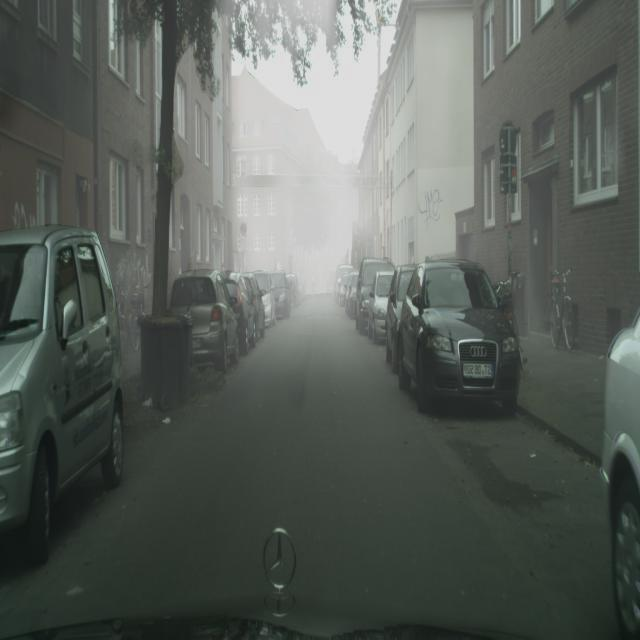car: (548, 268, 575, 351)
truck: (0, 224, 125, 565), (397, 257, 523, 418), (600, 305, 640, 632), (168, 269, 240, 374), (384, 264, 416, 370), (354, 258, 393, 335), (231, 272, 265, 348), (223, 273, 252, 355), (366, 269, 395, 345), (252, 271, 277, 328), (268, 270, 292, 319), (333, 264, 354, 308), (344, 272, 358, 317), (286, 273, 298, 308), (298, 276, 306, 302)
